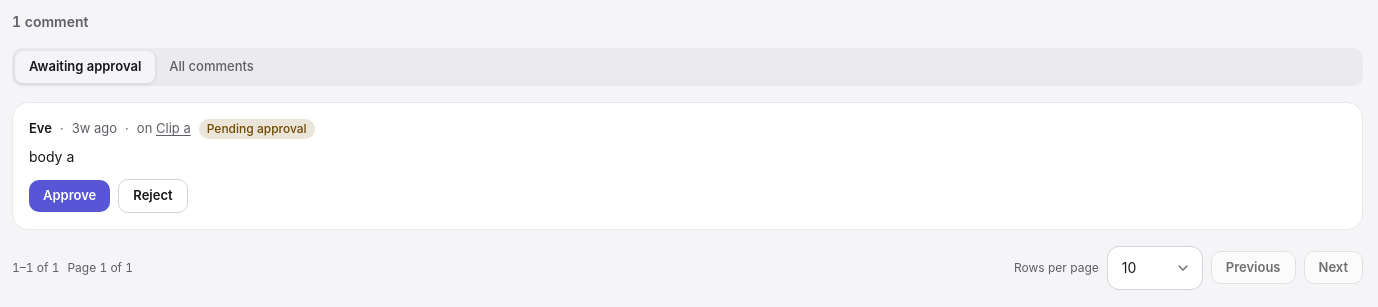
Scenario: CommentsQueueView › rejects (deletes) a held comment after confirmation
Expected: the text "body a" is shown, [29,148,74,165]
Step 1. Click the button "Reject" → (153, 196), box [118,179,188,212]
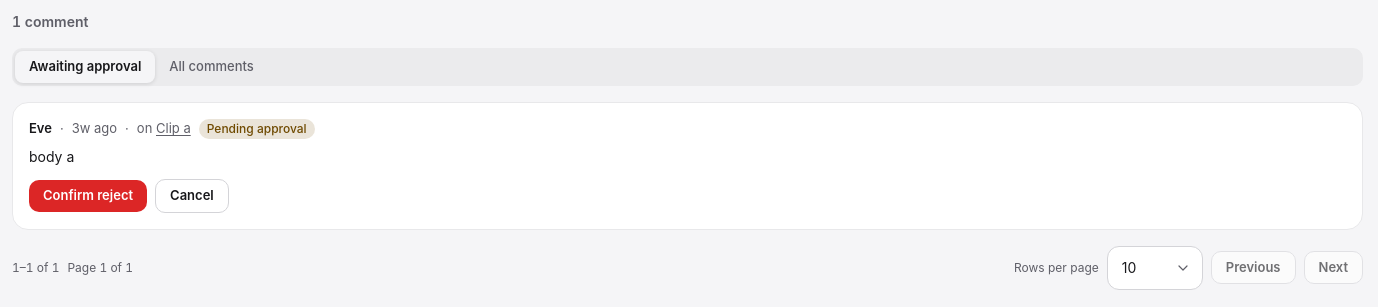
Step 2. Click the button "Confirm reject" → (88, 196), box [29,180,147,212]
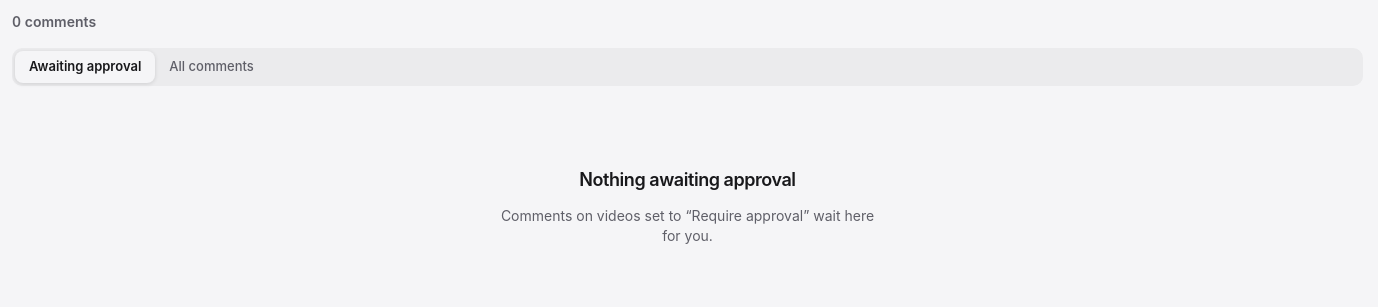
Result: the text "body a" is gone
